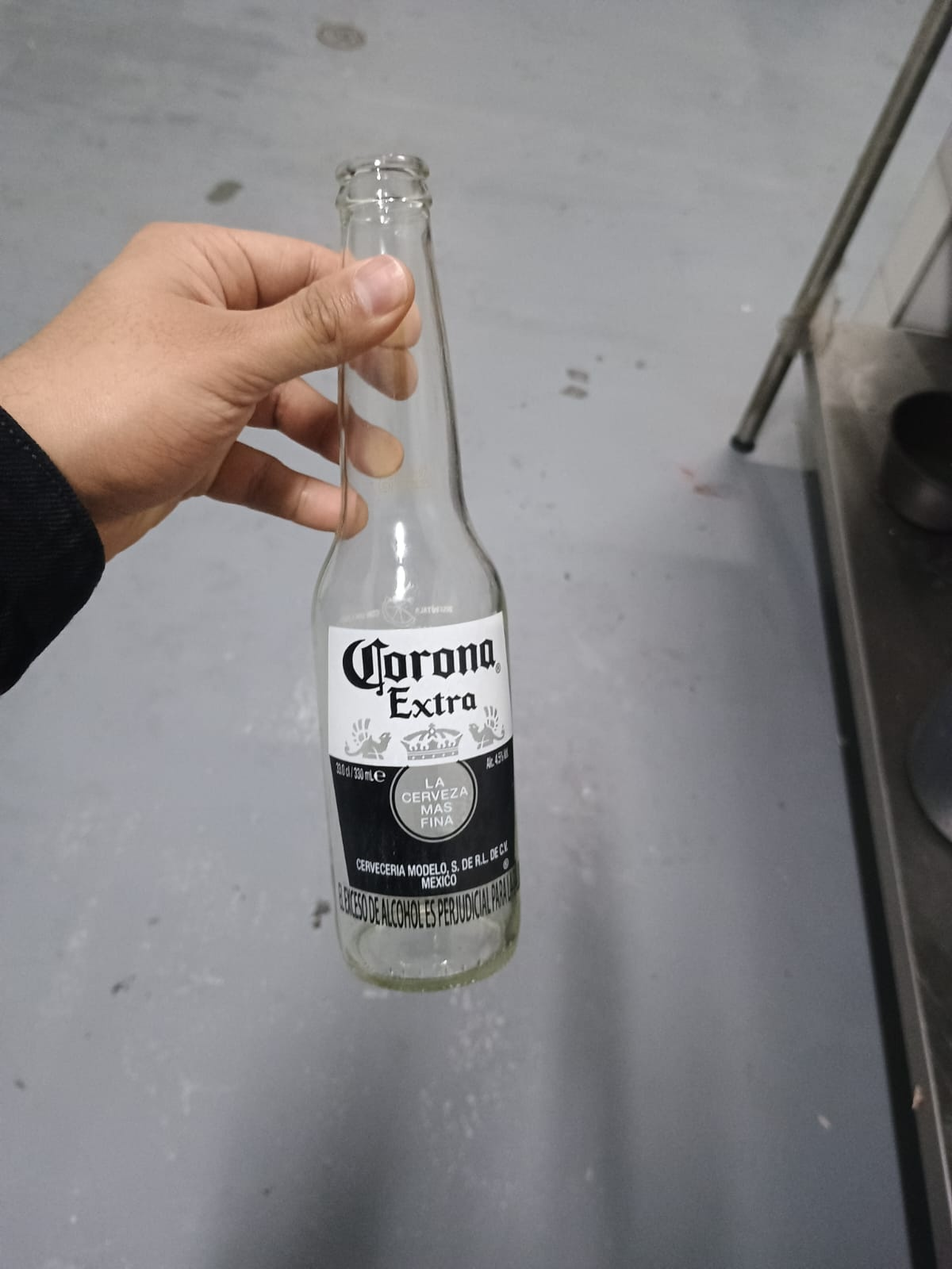Vidrio: (312, 156, 524, 991)
